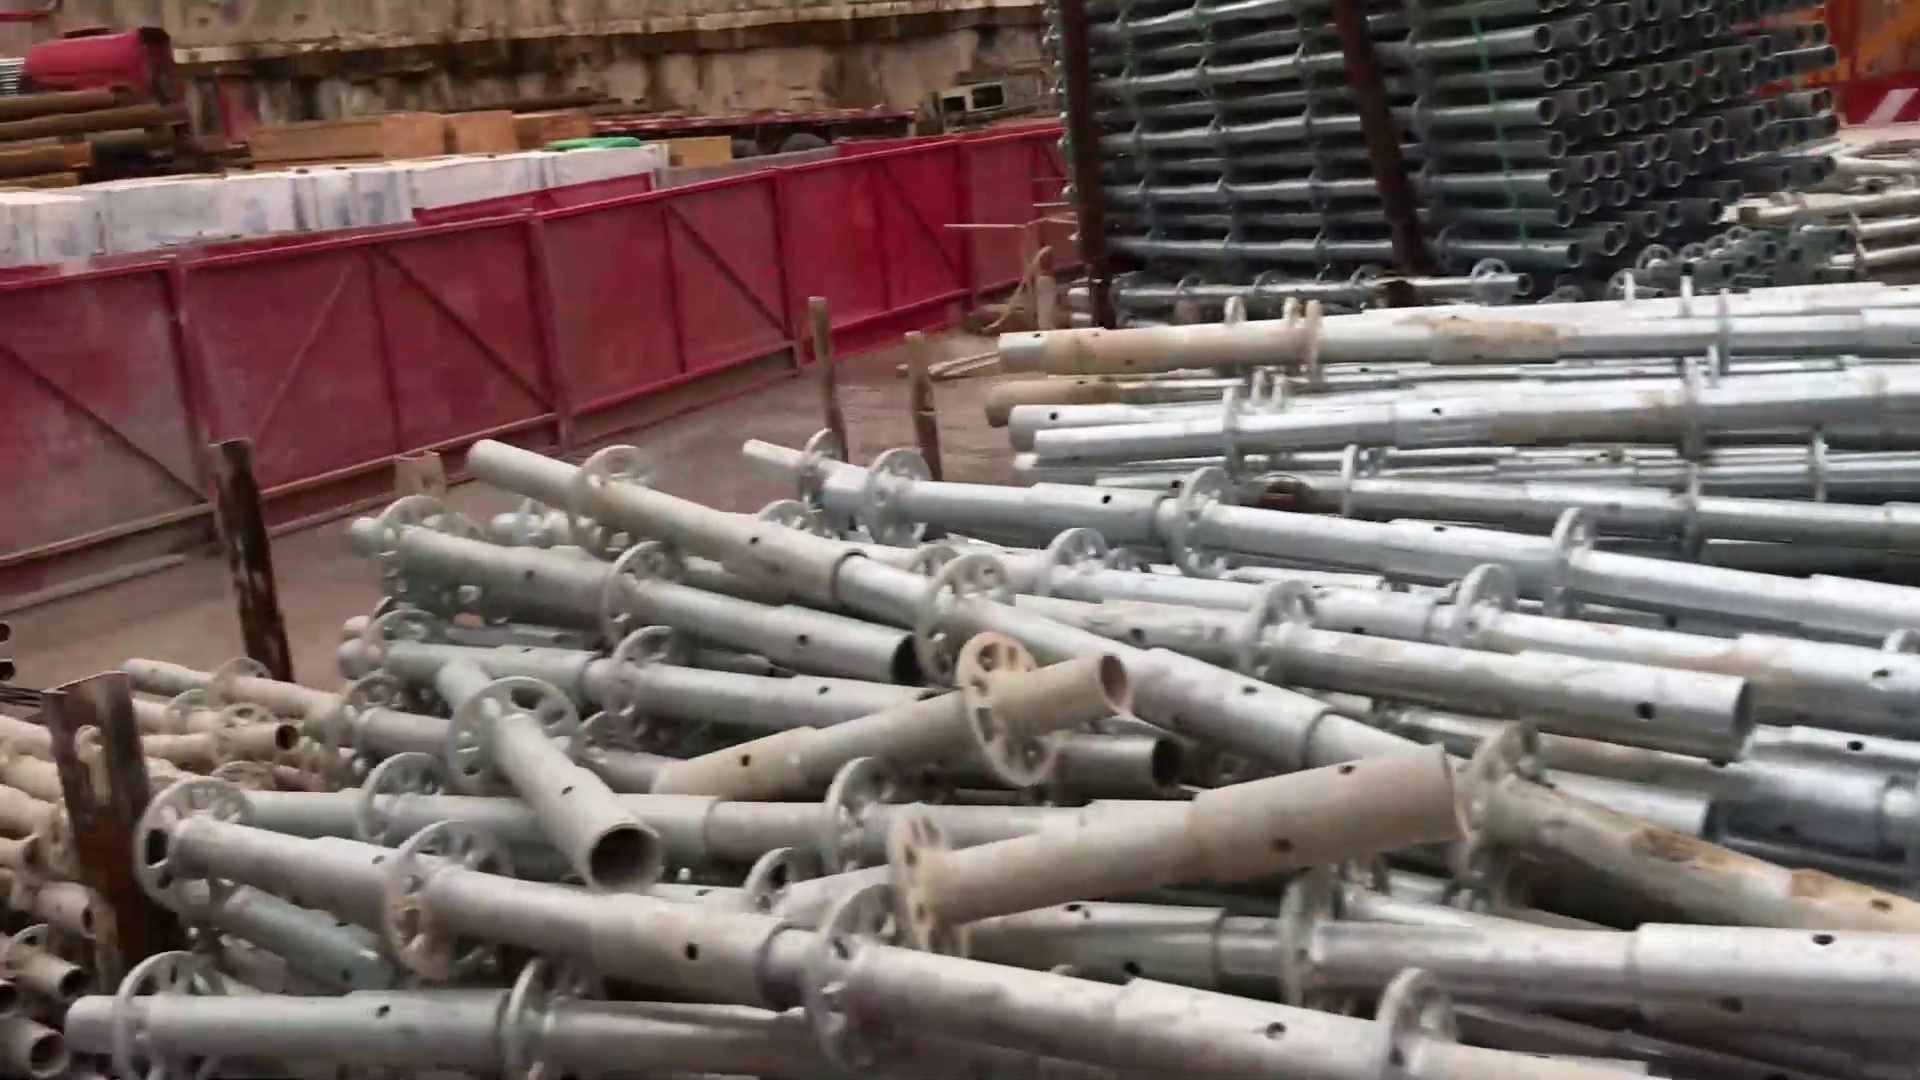fence: (150, 185, 773, 480)
scaffold: (11, 281, 1920, 1075), (1059, 1, 1858, 313)
wood: (247, 102, 596, 157)
